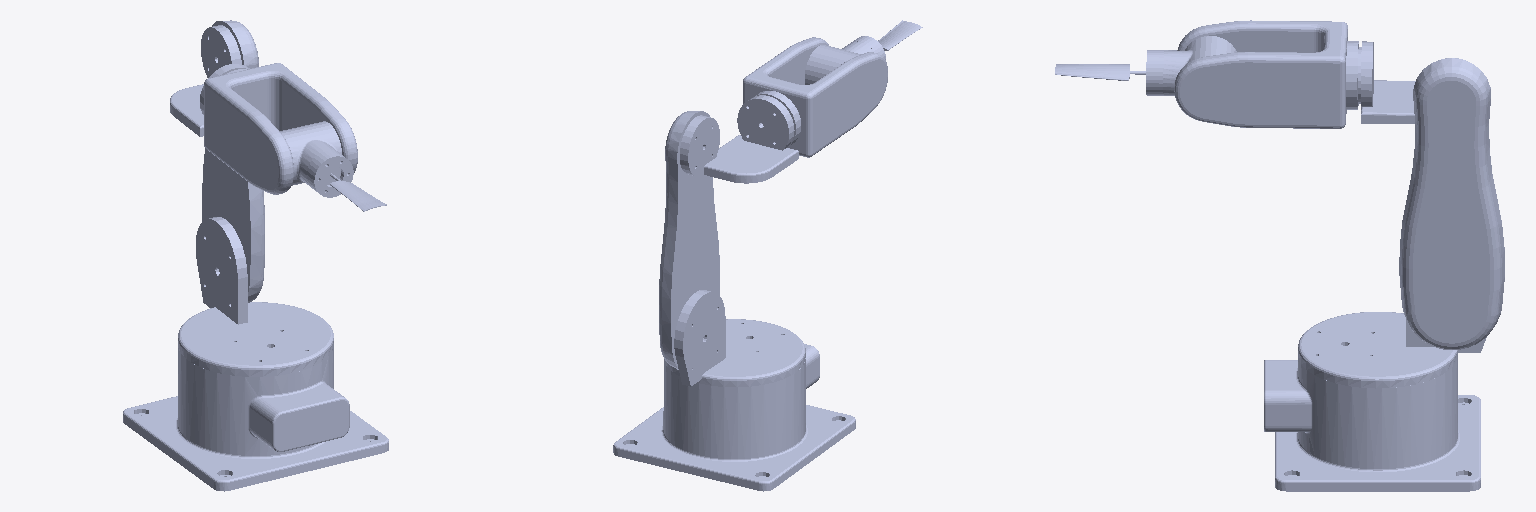
robot.urdf — solid_robot:
<?xml version="1.0" encoding="utf-8"?>
<!-- This URDF was automatically created by SolidWorks to URDF Exporter! Originally created by [author] ([email redacted]) 
     Commit Version: 1.6.0-4-g7f85cfe  Build Version: 1.6.7995.38578
     For more information, please see http://wiki.ros.org/sw_urdf_exporter -->
<robot
  name="solid_robot">
  <link 
    name="world"/>
  <joint 
    name="base_joint" type="fixed">
    <parent link="world"/>
    <child link="base_link"/>
    <origin rpy="0 0 0" xyz="0.0 0.0 0.0"/>
  </joint>
  <link
    name="base_link">
    <inertial>
      <origin
        xyz="-3.0665E-09 0.040159 0.0053975"
        rpy="0 0 0" />
      <mass
        value="1.6162" />
      <inertia
        ixx="0.0041025"
        ixy="4.7578E-10"
        ixz="3.3026E-10"
        iyy="0.0053684"
        iyz="-8.5852E-05"
        izz="0.0034747" />
    </inertial>
    <visual>
      <origin
        xyz="0 0 0"
        rpy="0 0 0" />
      <geometry>
        <mesh
          filename="package://solid_robot/meshes/base_link.STL" />
      </geometry>
      <material
        name="">
        <color
          rgba="0.79216 0.81961 0.93333 1" />
      </material>
    </visual>
    <collision>
      <origin
        xyz="0 0 0"
        rpy="0 0 0" />
      <geometry>
        <mesh
          filename="package://solid_robot/meshes/base_link.STL" />
      </geometry>
    </collision>
  </link>
  <link
    name="link_1">
    <inertial>
      <origin
        xyz="-0.015064 0.017316 -1.5849E-06"
        rpy="0 0 0" />
      <mass
        value="0.25096" />
      <inertia
        ixx="0.0003566"
        ixy="0.00013216"
        ixz="-1.9113E-08"
        iyy="0.00066525"
        iyz="1.2823E-08"
        izz="0.00056389" />
    </inertial>
    <visual>
      <origin
        xyz="0 0 0"
        rpy="0 0 0" />
      <geometry>
        <mesh
          filename="package://solid_robot/meshes/link_1.STL" />
      </geometry>
      <material
        name="">
        <color
          rgba="0.79216 0.81961 0.93333 1" />
      </material>
    </visual>
    <collision>
      <origin
        xyz="0 0 0"
        rpy="0 0 0" />
      <geometry>
        <mesh
          filename="package://solid_robot/meshes/link_1.STL" />
      </geometry>
    </collision>
  </link>
  <joint
    name="joint_1"
    type="revolute">
    <origin
      xyz="0 0 0.087"
      rpy="1.5708 0 -1.6004" />
    <parent
      link="base_link" />
    <child
      link="link_1" />
    <axis
      xyz="0 1 0" />
    <limit
      lower="-3.14"
      upper="3.14"
      effort="200"
      velocity="3" />
  </joint>
  <link
    name="link_2">
    <inertial>
      <origin
        xyz="-3.1964E-12 0.086089 0.012331"
        rpy="0 0 0" />
      <mass
        value="0.37821" />
      <inertia
        ixx="0.0020782"
        ixy="-8.0045E-14"
        ixz="-9.898E-15"
        iyy="0.00018523"
        iyz="1.0283E-06"
        izz="0.0022389" />
    </inertial>
    <visual>
      <origin
        xyz="0 0 0"
        rpy="0 0 0" />
      <geometry>
        <mesh
          filename="package://solid_robot/meshes/link_2.STL" />
      </geometry>
      <material
        name="">
        <color
          rgba="0.79216 0.81961 0.93333 1" />
      </material>
    </visual>
    <collision>
      <origin
        xyz="0 0 0"
        rpy="0 0 0" />
      <geometry>
        <mesh
          filename="package://solid_robot/meshes/link_2.STL" />
      </geometry>
    </collision>
  </link>
  <joint
    name="joint_2"
    type="revolute">
    <origin
      xyz="-0.065 0.058 -0.002258"
      rpy="-3.1416 0 -3.1416" />
    <parent
      link="link_1" />
    <child
      link="link_2" />
    <axis
      xyz="0 0 -1" />
    <limit
      lower="-3.14"
      upper="3.14"
      effort="200"
      velocity="3" />
  </joint>
  <link
    name="link_3">
    <inertial>
      <origin
        xyz="-0.038723 -0.011804 -0.024232"
        rpy="0 0 0" />
      <mass
        value="0.10479" />
      <inertia
        ixx="7.3641E-05"
        ixy="-1.7839E-06"
        ixz="-3.2652E-05"
        iyy="0.00015116"
        iyz="-9.6678E-06"
        izz="0.00013645" />
    </inertial>
    <visual>
      <origin
        xyz="0 0 0"
        rpy="0 0 0" />
      <geometry>
        <mesh
          filename="package://solid_robot/meshes/link_3.STL" />
      </geometry>
      <material
        name="">
        <color
          rgba="0.79216 0.81961 0.93333 1" />
      </material>
    </visual>
    <collision>
      <origin
        xyz="0 0 0"
        rpy="0 0 0" />
      <geometry>
        <mesh
          filename="package://solid_robot/meshes/link_3.STL" />
      </geometry>
    </collision>
  </link>
  <joint
    name="joint_3"
    type="revolute">
    <origin
      xyz="0 0.2 0"
      rpy="0 0 0" />
    <parent
      link="link_2" />
    <child
      link="link_3" />
    <axis
      xyz="0 0 1" />
    <limit
      lower="-3.14"
      upper="3.14"
      effort="200"
      velocity="3" />
  </joint>
  <link
    name="link_4">
    <inertial>
      <origin
        xyz="0.066052 0 -1.249E-16"
        rpy="0 0 0" />
      <mass
        value="0.39507" />
      <inertia
        ixx="0.0004683"
        ixy="-5.5474E-20"
        ixz="9.4444E-19"
        iyy="0.0011613"
        iyz="-1.3394E-19"
        izz="0.00096916" />
    </inertial>
    <visual>
      <origin
        xyz="0 0 0"
        rpy="0 0 0" />
      <geometry>
        <mesh
          filename="package://solid_robot/meshes/link_4.STL" />
      </geometry>
      <material
        name="">
        <color
          rgba="0.79216 0.81961 0.93333 1" />
      </material>
    </visual>
    <collision>
      <origin
        xyz="0 0 0"
        rpy="0 0 0" />
      <geometry>
        <mesh
          filename="package://solid_robot/meshes/link_4.STL" />
      </geometry>
    </collision>
  </link>
  <joint
    name="joint_4"
    type="revolute">
    <origin
      xyz="-0.080143 0 -0.032258"
      rpy="3.1416 0 3.1416" />
    <parent
      link="link_3" />
    <child
      link="link_4" />
    <axis
      xyz="1 0 0" />
    <limit
      lower="-3.14"
      upper="3.14"
      effort="200"
      velocity="3" />
  </joint>
  <link
    name="link_5">
    <inertial>
      <origin
        xyz="0.0068176 2.5406E-08 9.1119E-09"
        rpy="0 0 0" />
      <mass
        value="0.11702" />
      <inertia
        ixx="3.7166E-05"
        ixy="-1.1391E-10"
        ixz="-1.217E-11"
        iyy="5.5773E-05"
        iyz="-9.2774E-11"
        izz="5.3775E-05" />
    </inertial>
    <visual>
      <origin
        xyz="0 0 0"
        rpy="0 0 0" />
      <geometry>
        <mesh
          filename="package://solid_robot/meshes/link_5.STL" />
      </geometry>
      <material
        name="">
        <color
          rgba="0.79216 0.81961 0.93333 1" />
      </material>
    </visual>
    <collision>
      <origin
        xyz="0 0 0"
        rpy="0 0 0" />
      <geometry>
        <mesh
          filename="package://solid_robot/meshes/link_5.STL" />
      </geometry>
    </collision>
  </link>
  <joint
    name="joint_5"
    type="revolute">
    <origin
      xyz="0.13286 0 0"
      rpy="3.1416 0 0" />
    <parent
      link="link_4" />
    <child
      link="link_5" />
    <axis
      xyz="0 0 1" />
    <limit
      lower="-3.14"
      upper="3.14"
      effort="200"
      velocity="3" />
  </joint>
  <link
    name="link_6">
    <inertial>
      <origin
        xyz="-0.00020456 0.00098086 0.033419"
        rpy="0 0 0" />
      <mass
        value="0.030395" />
      <inertia
        ixx="7.219E-06"
        ixy="2.8444E-07"
        ixz="-1.0737E-07"
        iyy="7.4262E-06"
        iyz="-1.2439E-07"
        izz="3.797E-06" />
    </inertial>
    <visual>
      <origin
        xyz="0 0 0"
        rpy="0 0 0" />
      <geometry>
        <mesh
          filename="package://solid_robot/meshes/link_6.STL" />
      </geometry>
      <material
        name="">
        <color
          rgba="0.79216 0.81961 0.93333 1" />
      </material>
    </visual>
    <collision>
      <origin
        xyz="0 0 0"
        rpy="0 0 0" />
      <geometry>
        <mesh
          filename="package://solid_robot/meshes/link_6.STL" />
      </geometry>
    </collision>
  </link>
  <joint
    name="joint_6"
    type="revolute">
    <origin
      xyz="0.040026 0 0"
      rpy="-1.5708 -1.0837 -1.5708" />
    <parent
      link="link_5" />
    <child
      link="link_6" />
    <axis
      xyz="0 0 1" />
    <limit
      lower="-3.14"
      upper="3.14"
      effort="200"
      velocity="3" />
  </joint>
  <transmission name="link_1_trans">
    <type>transmission_interface/SimpleTransmission</type>
    <joint name="joint_1">
      <hardwareInterface>hardware_interface/PositionJointInterface</hardwareInterface>
    </joint>
    <actuator name="link_1_motor">
      <hardwareInterface>hardware_interface/PositionJointInterface</hardwareInterface>
      <mechanicalReduction>1</mechanicalReduction>
    </actuator>
  </transmission>
  <transmission name="link_2_trans">
    <type>transmission_interface/SimpleTransmission</type>
    <joint name="joint_2">
      <hardwareInterface>hardware_interface/PositionJointInterface</hardwareInterface>
    </joint>
    <actuator name="link_2_motor">
      <hardwareInterface>hardware_interface/PositionJointInterface</hardwareInterface>
      <mechanicalReduction>1</mechanicalReduction>
    </actuator>
  </transmission>
  <transmission name="link_3_trans">
    <type>transmission_interface/SimpleTransmission</type>
    <joint name="joint_3">
      <hardwareInterface>hardware_interface/PositionJointInterface</hardwareInterface>
    </joint>
    <actuator name="link_3_motor">
      <hardwareInterface>hardware_interface/PositionJointInterface</hardwareInterface>
      <mechanicalReduction>1</mechanicalReduction>
    </actuator>
  </transmission>
  <transmission name="link_4_trans">
    <type>transmission_interface/SimpleTransmission</type>
    <joint name="joint_4">
      <hardwareInterface>hardware_interface/PositionJointInterface</hardwareInterface>
    </joint>
    <actuator name="link_4_motor">
      <hardwareInterface>hardware_interface/PositionJointInterface</hardwareInterface>
      <mechanicalReduction>1</mechanicalReduction>
    </actuator>
  </transmission>
  <transmission name="link_5_trans">
    <type>transmission_interface/SimpleTransmission</type>
    <joint name="joint_5">
      <hardwareInterface>hardware_interface/PositionJointInterface</hardwareInterface>
    </joint>
    <actuator name="link_5_motor">
      <hardwareInterface>hardware_interface/PositionJointInterface</hardwareInterface>
      <mechanicalReduction>1</mechanicalReduction>
    </actuator>
  </transmission>
  <transmission name="link_6_trans">
    <type>transmission_interface/SimpleTransmission</type>
    <joint name="joint_6">
      <hardwareInterface>hardware_interface/PositionJointInterface</hardwareInterface>
    </joint>
    <actuator name="link_6_motor">
      <hardwareInterface>hardware_interface/PositionJointInterface</hardwareInterface>
      <mechanicalReduction>1</mechanicalReduction>
    </actuator>
  </transmission>
  <gazebo>
    <plugin name="control" filename="libgazebo_ros_control.so">
      <robotNamespace>/</robotNamespace>
    </plugin>
  </gazebo>
  <gazebo reference="link_1">
    <selfCollide>true</selfCollide>
  </gazebo>
  <gazebo reference="link_2">
    <selfCollide>true</selfCollide>
  </gazebo>
  <gazebo reference="link_3">
    <selfCollide>true</selfCollide>
  </gazebo>
  <gazebo reference="link_4">
    <selfCollide>true</selfCollide>
  </gazebo>
  <gazebo reference="link_5">
    <selfCollide>true</selfCollide>
  </gazebo>
  <gazebo reference="link_6">
    <selfCollide>true</selfCollide>
  </gazebo>
</robot>

--- What the picture shows (computed from the rendered views, not written in the file) ---
Views: 3 orthographic renders of the robot side by side, from view 1: azimuth 30°, elevation 25°; view 2: azimuth 150°, elevation 25°; view 3: azimuth 270°, elevation 25°.
Model solid_robot with 8 links and 7 joints (6 revolute, 1 fixed), rooted at world, posed all joints at 0.
Links seen in each view (by area): view 1: base_link, link_1, link_4, link_2, link_3, link_6, link_5; view 2: base_link, link_4, link_1, link_2, link_3, link_5, link_6; view 3: link_2, base_link, link_4, link_1, link_3, link_6, link_5.
Link boxes in pixels (bbox=[...]): base_link: bbox=[123, 348, 388, 491]; link_1: bbox=[178, 217, 333, 376]; link_4: bbox=[204, 63, 357, 194]; link_2: bbox=[202, 20, 264, 302]; link_3: bbox=[170, 25, 249, 136]; link_6: bbox=[306, 150, 386, 211]; link_5: bbox=[279, 121, 341, 185]; base_link: bbox=[613, 344, 855, 491]; link_4: bbox=[743, 37, 887, 157]; link_1: bbox=[664, 290, 805, 386]; link_2: bbox=[659, 111, 719, 369]; link_3: bbox=[680, 95, 798, 183]; link_5: bbox=[805, 41, 874, 84]; link_6: bbox=[851, 20, 922, 59]; link_2: bbox=[1399, 58, 1504, 349]; base_link: bbox=[1264, 357, 1480, 491]; link_4: bbox=[1174, 20, 1361, 128]; link_1: bbox=[1298, 312, 1486, 388]; link_3: bbox=[1361, 41, 1467, 123]; link_6: bbox=[1055, 50, 1163, 95]; link_5: bbox=[1163, 36, 1236, 95].
Size in the robot's own frame: 0.18 by 0.3933 by 0.38 metres.
7 mesh visuals loaded from 7 distinct referenced files (7 binary STL).